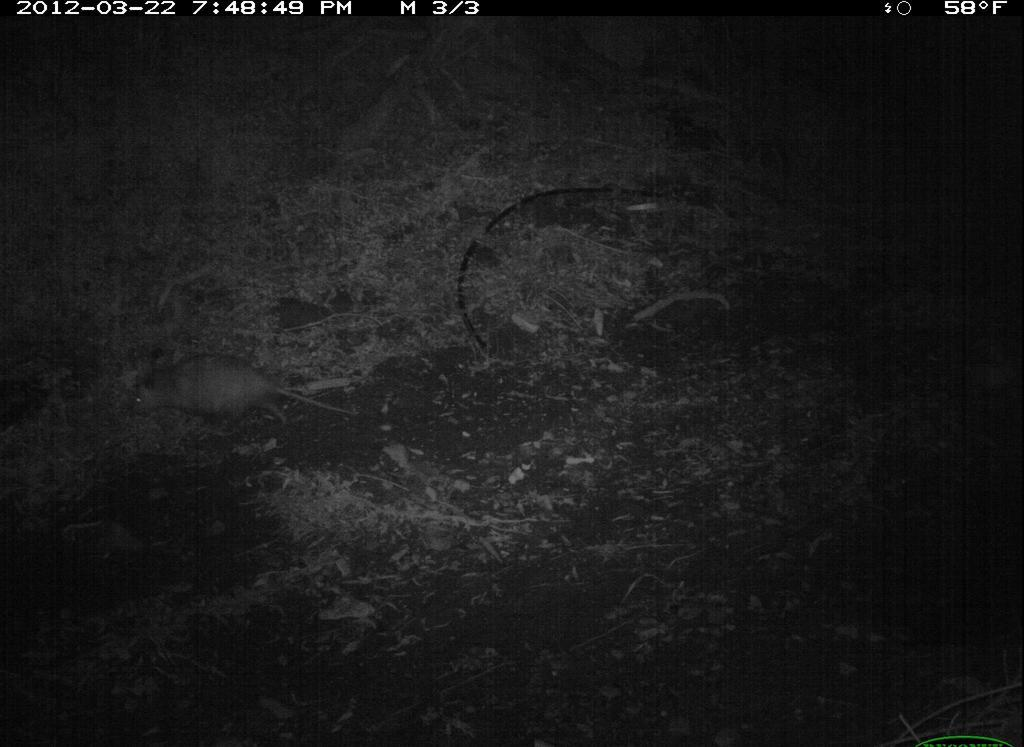opossum: (123, 344, 373, 441)
